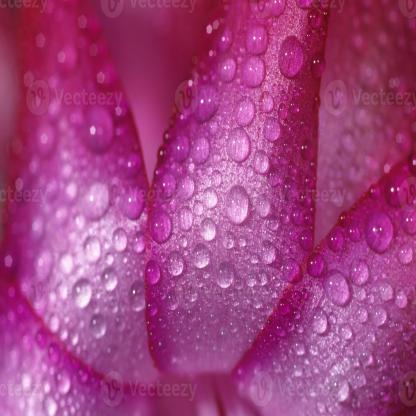Aglonema: (21, 55, 290, 293)
